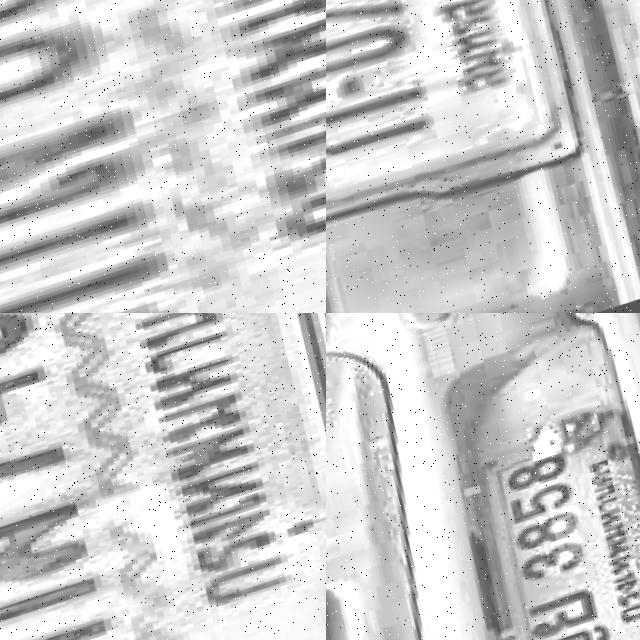license-plate: (0, 313, 326, 640), (0, 0, 326, 313), (326, 0, 573, 252), (465, 401, 640, 640)
